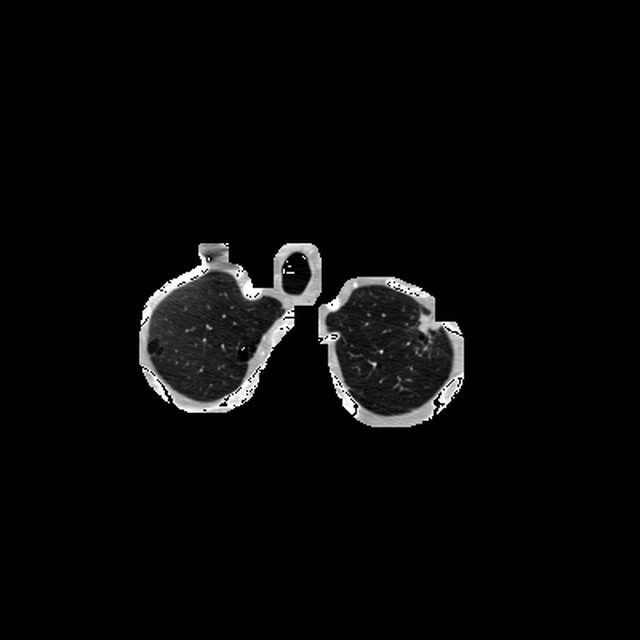PN: (418, 315, 437, 334)
